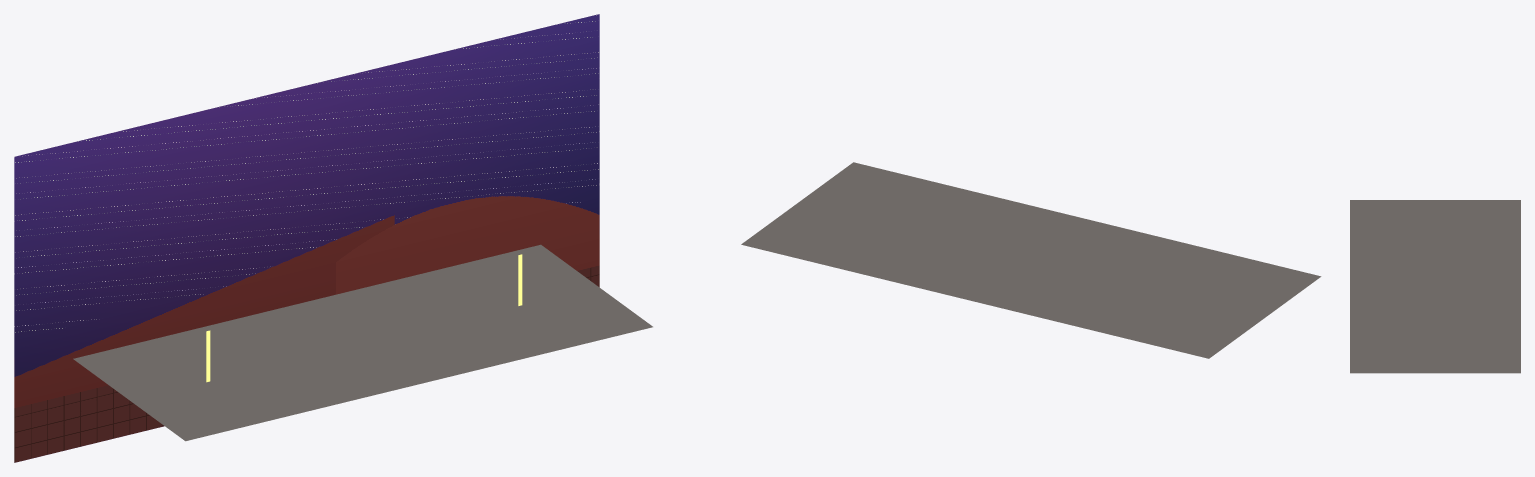
Rendered from stage_sky_observatory.glb.
3 views of the same model, side by side, from view 1: azimuth 30°, elevation 25°; view 2: azimuth 150°, elevation 25°; view 3: azimuth 270°, elevation 25° (orthographic). The views are drawn at different scales.
Visible parts, largest first — view 1: FOF_StageBackdrop, FOF_FightingFloor; view 2: FOF_FightingFloor; view 3: FOF_FightingFloor.
Boxes of the visible parts, x1,y1,x2,y2 form: FOF_StageBackdrop: (14,14,599,462); FOF_FightingFloor: (73,244,652,441); FOF_FightingFloor: (741,162,1321,358); FOF_FightingFloor: (1350,200,1520,373).
Size of the model in its own units: 60 by 30 by 20.
Materials: 3 (1 with a texture image).
